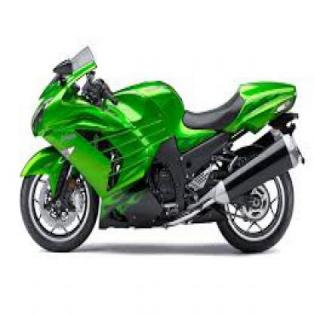Motocicleta: (16, 43, 305, 255)
